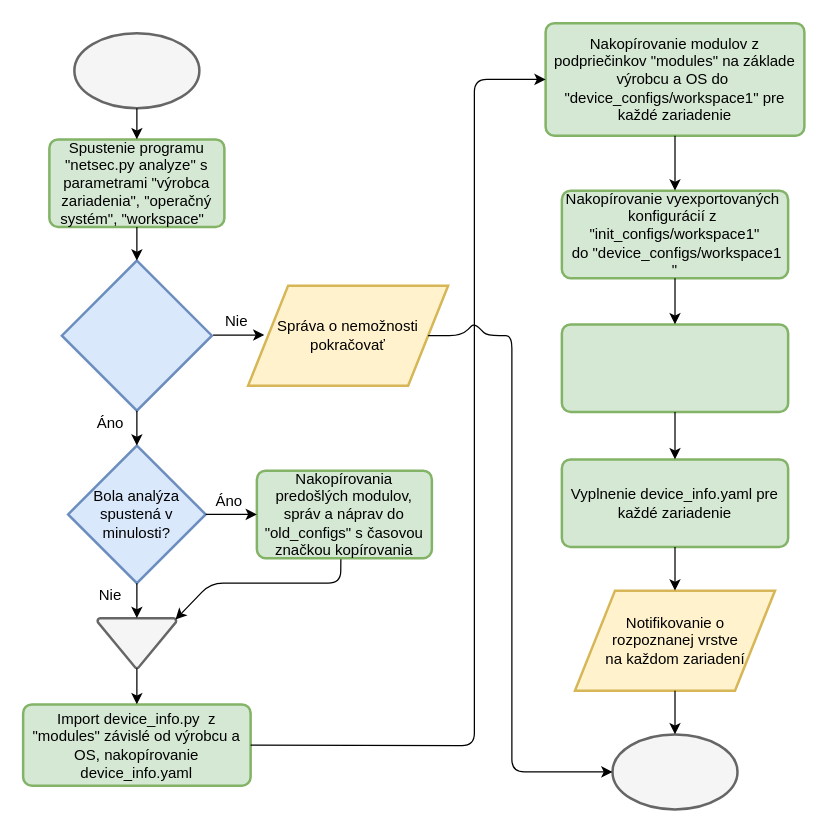
The diagram is 826 pixels wide and 831 high, and some of its shapes have lost their labels. The shapes that lost their labels are listed below. From the top down, each one's box as (x1, y1, x2, y2) in pixels, then its label:
(72, 31, 200, 109): Začiatok
(60, 259, 212, 411): Existuje adresár zariadenie/operačný systém?
(560, 322, 789, 412): Nakopírovanie own_variables.yaml, modules_by_facility_layer.yaml
(611, 732, 738, 810): Koniec
